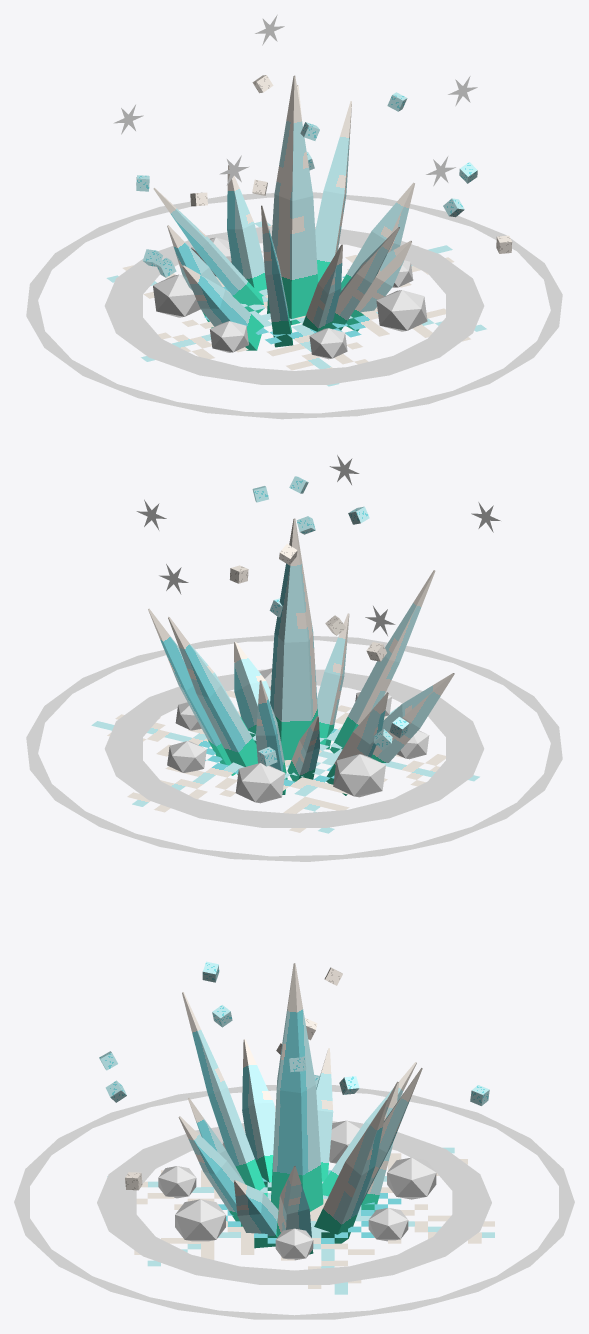
File: Mint Freeze Burst.fbx
3 views of the same model, one above another, from view 1: azimuth 30°, elevation 25°; view 2: azimuth 150°, elevation 25°; view 3: azimuth 270°, elevation 25° (orthographic). The views are drawn at different scales.
Parts seen in each view (by area): view 1: Mint Freeze Burst frost ring, Mint Freeze Burst frost ring outer, Mint Freeze Burst center spike, Mint Freeze Burst frost decal, Mint Freeze Burst shard 1, Mint Freeze Burst shard 3, Mint Freeze Burst shard 4, Mint Freeze Burst shard 6, Mint Freeze Burst shard 7, Mint Freeze Burst shard 9, Mint Freeze Burst shard 8, Mint Freeze Burst shard 0 (+6 smaller); view 2: Mint Freeze Burst frost ring, Mint Freeze Burst frost ring outer, Mint Freeze Burst center spike, Mint Freeze Burst frost decal, Mint Freeze Burst shard 2, Mint Freeze Burst shard 7, Mint Freeze Burst shard 6, Mint Freeze Burst shard 8, Mint Freeze Burst shard 1, Mint Freeze Burst frost puff 3, Mint Freeze Burst shard 10, Mint Freeze Burst frost puff 2 (+5 smaller); view 3: Mint Freeze Burst frost ring, Mint Freeze Burst frost ring outer, Mint Freeze Burst center spike, Mint Freeze Burst frost decal, Mint Freeze Burst shard 1, Mint Freeze Burst shard 7, Mint Freeze Burst shard 6, Mint Freeze Burst shard 9, Mint Freeze Burst shard 10, Mint Freeze Burst frost puff 6, Mint Freeze Burst frost puff 2, Mint Freeze Burst shard 0 (+9 smaller).
Part boxes in pixels (box(x1,y1,x2,y2)): Mint Freeze Burst frost ring: box(104, 227, 484, 384); Mint Freeze Burst frost ring outer: box(26, 192, 562, 419); Mint Freeze Burst center spike: box(267, 75, 318, 325); Mint Freeze Burst frost decal: box(106, 221, 486, 386); Mint Freeze Burst shard 1: box(315, 101, 351, 281); Mint Freeze Burst shard 3: box(227, 165, 266, 296); Mint Freeze Burst shard 4: box(153, 188, 264, 313); Mint Freeze Burst shard 6: box(182, 265, 263, 350); Mint Freeze Burst shard 7: box(261, 205, 292, 347); Mint Freeze Burst shard 9: box(331, 227, 399, 330); Mint Freeze Burst shard 8: box(302, 244, 342, 331); Mint Freeze Burst shard 0: box(341, 182, 414, 289); Mint Freeze Burst frost ring: box(104, 669, 484, 827); Mint Freeze Burst frost ring outer: box(26, 635, 562, 861); Mint Freeze Burst center spike: box(270, 518, 318, 760); Mint Freeze Burst frost decal: box(91, 690, 479, 833); Mint Freeze Burst shard 2: box(168, 617, 257, 774); Mint Freeze Burst shard 7: box(330, 570, 435, 753); Mint Freeze Burst shard 6: box(371, 673, 454, 762); Mint Freeze Burst shard 8: box(317, 613, 349, 749); Mint Freeze Burst shard 1: box(148, 608, 235, 775); Mint Freeze Burst frost puff 3: box(333, 754, 385, 797); Mint Freeze Burst shard 10: box(234, 642, 270, 743); Mint Freeze Burst frost puff 2: box(235, 763, 285, 803); Mint Freeze Burst frost ring: box(97, 1121, 491, 1284); Mint Freeze Burst frost ring outer: box(14, 1085, 574, 1319); Mint Freeze Burst center spike: box(271, 963, 323, 1211); Mint Freeze Burst frost decal: box(107, 1147, 494, 1294); Mint Freeze Burst shard 1: box(314, 1100, 387, 1243); Mint Freeze Burst shard 7: box(182, 992, 267, 1196); Mint Freeze Burst shard 6: box(242, 1039, 275, 1190); Mint Freeze Burst shard 9: box(178, 1116, 245, 1226); Mint Freeze Burst shard 10: box(234, 1180, 278, 1248); Mint Freeze Burst frost puff 6: box(175, 1199, 225, 1241); Mint Freeze Burst frost puff 2: box(387, 1157, 436, 1199); Mint Freeze Burst shard 0: box(276, 1166, 313, 1254).
Bounding box in the file's own units: 2.08 × 1.09 × 2.1.
9 materials, 4 textured.
